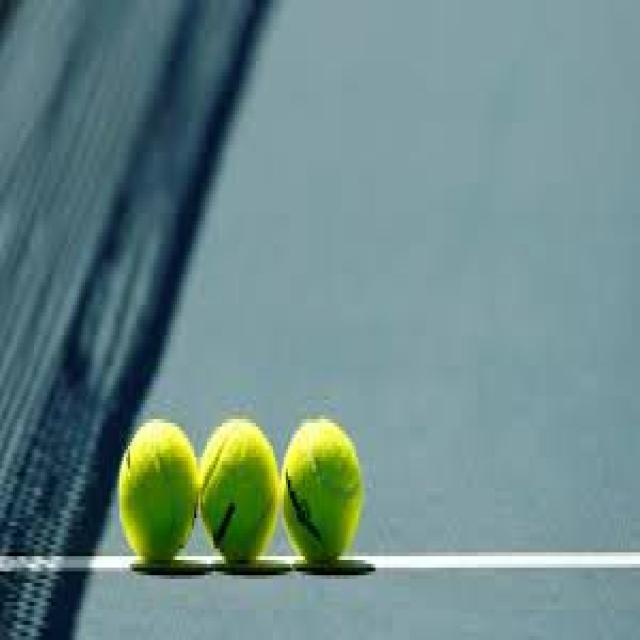ball: (118, 418, 199, 572), (282, 421, 365, 564), (202, 419, 278, 571)
